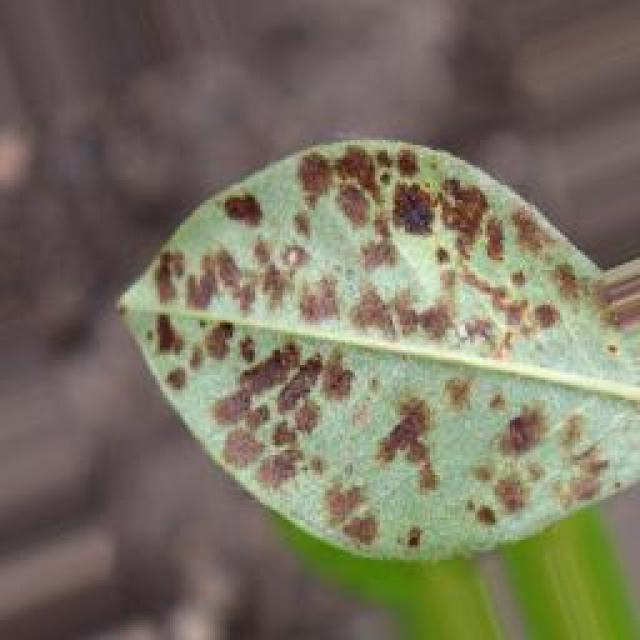Whitefly: (104, 111, 638, 574)
